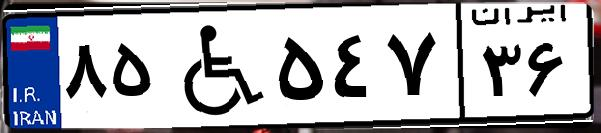3: (475, 38, 525, 113)
4: (330, 28, 385, 110)
5: (270, 28, 330, 110), (110, 28, 158, 98)
6: (525, 38, 570, 115)
7: (385, 28, 445, 110)
8: (57, 26, 110, 100)
ژ (معلولین و جانبازان): (158, 12, 270, 120)
